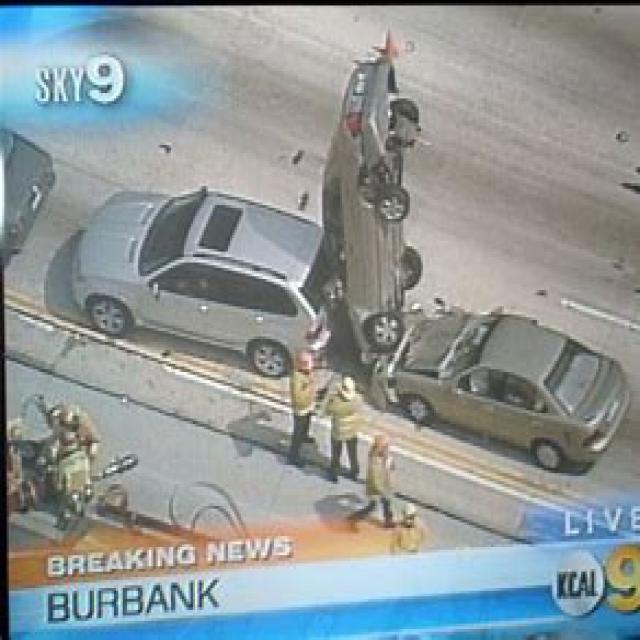Accident: (110, 58, 640, 496)
